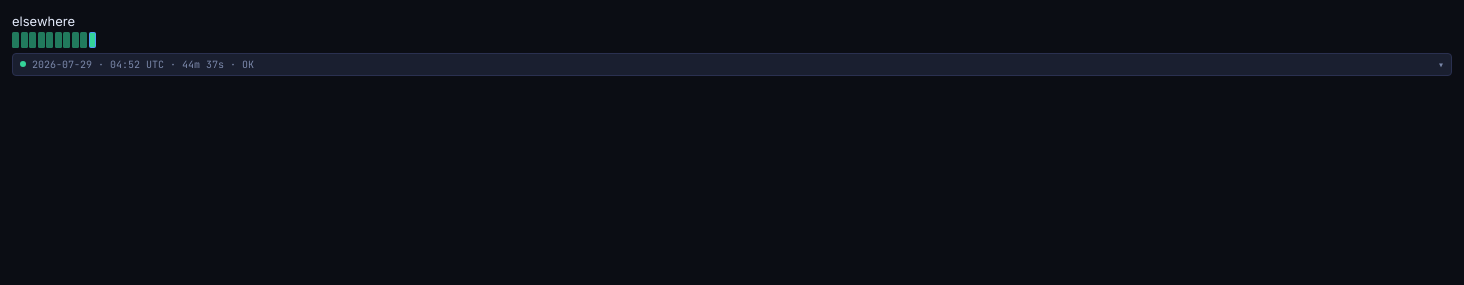
Test case: RunPicker › closes the dropdown on an outside click
The image size is (1464, 285).
Step 1. Click the button with aria-label "Choose run" → x=143, y=64, box [12,52,1452,76]
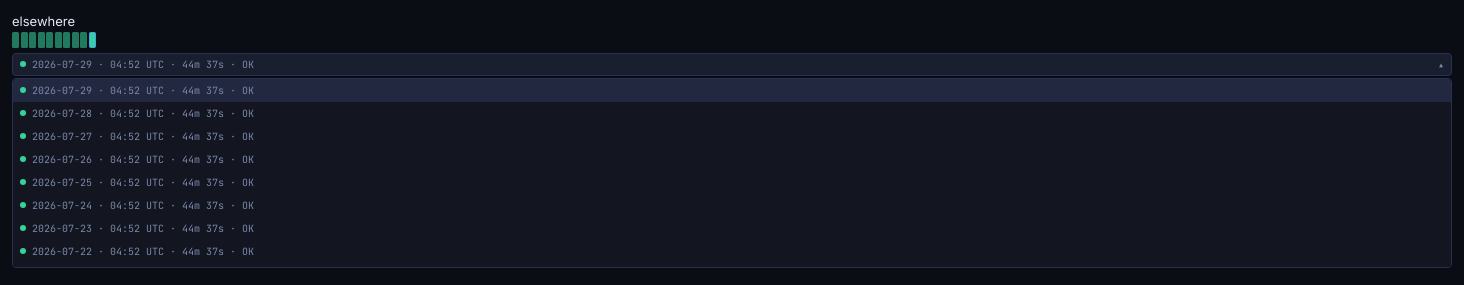
Step 2. Press the mouse on the text with test id "outside" → x=44, y=21, box [12,13,75,29]
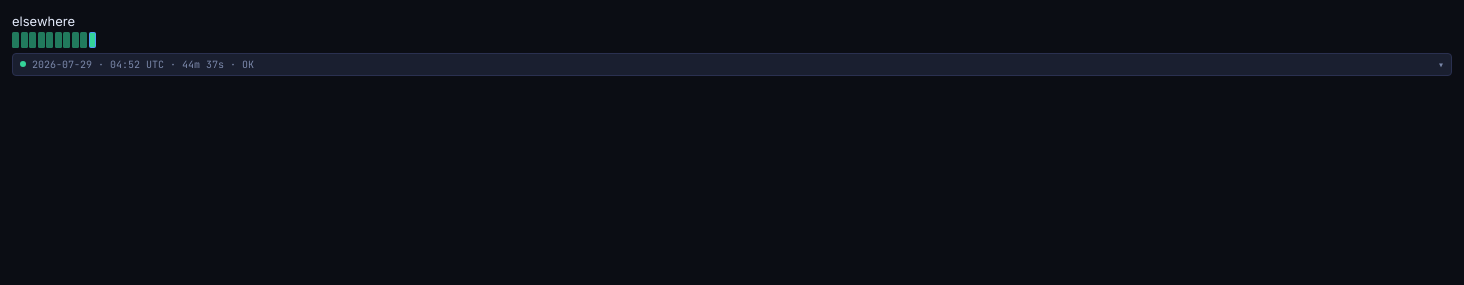
Check: the menu is gone
